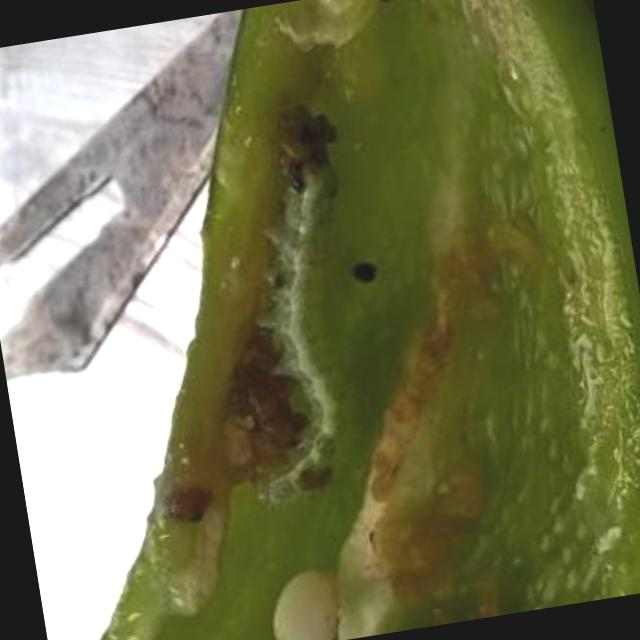Cotton bollworm: (182, 88, 420, 536)
